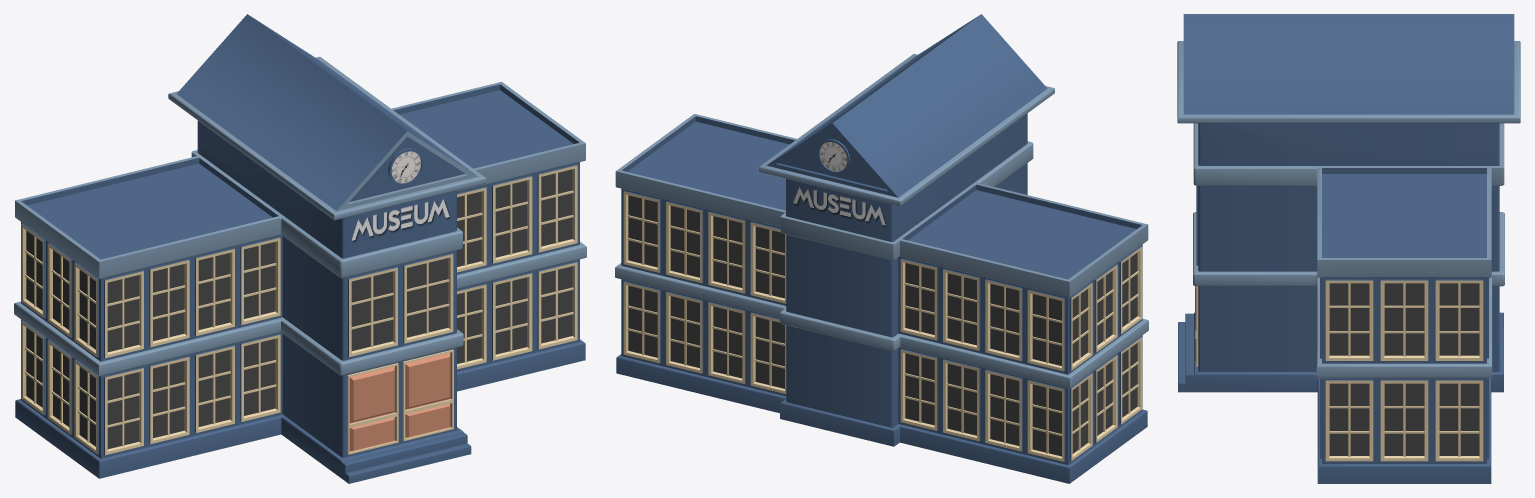
File: government-building-museum.fbx
3 renders of one model, left to right at view 1: azimuth 30°, elevation 25°; view 2: azimuth 150°, elevation 25°; view 3: azimuth 270°, elevation 25°, orthographic. The views are drawn at different scales.
Parts seen in each view (by area): view 1: government-building-museum; view 2: government-building-museum; view 3: government-building-museum.
Part boxes in pixels (bbox=[...]): government-building-museum: bbox=[14, 14, 586, 483]; government-building-museum: bbox=[615, 14, 1148, 483]; government-building-museum: bbox=[1177, 14, 1520, 483].
Size of the model in its own units: 18.2 by 11.97 by 10.72.
